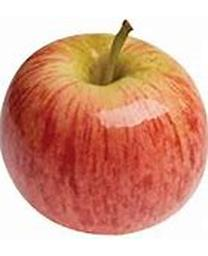apple: (0, 20, 206, 235)
